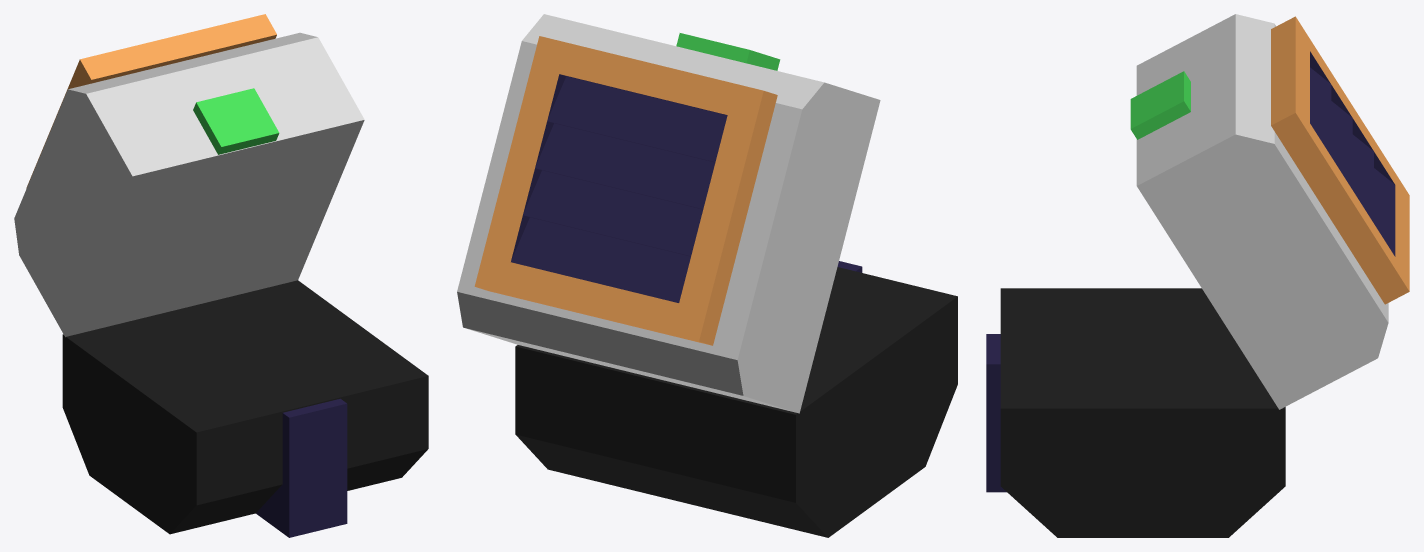
Rendered from ChestOpen.fbx.
3 renders of one model, left to right at view 1: azimuth 30°, elevation 25°; view 2: azimuth 150°, elevation 25°; view 3: azimuth 270°, elevation 25°, orthographic. The views are drawn at different scales.
Visible parts, largest first — view 1: mergedBlocks; view 2: mergedBlocks; view 3: mergedBlocks.
Boxes of the visible parts, x1,y1,x2,y2 form: mergedBlocks: (14,14,428,537); mergedBlocks: (457,14,957,537); mergedBlocks: (986,14,1409,537).
Bounding box in the file's own units: 10 × 15.96 × 14.85.
